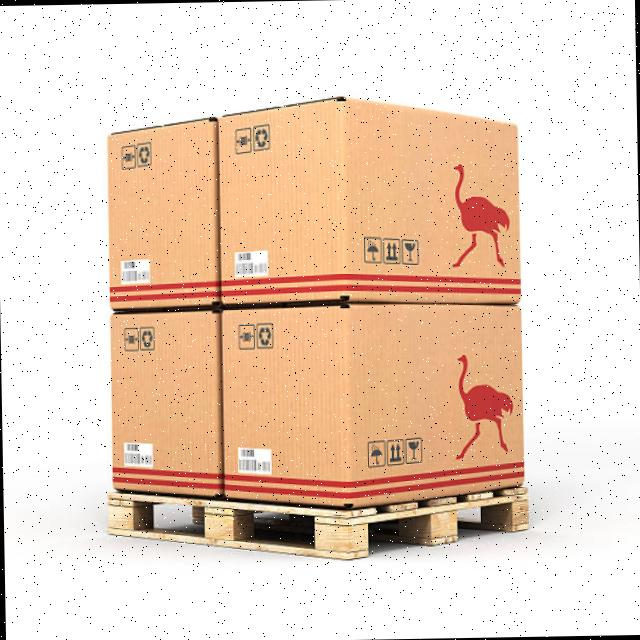Wooden-Pallets: (103, 484, 531, 561)
